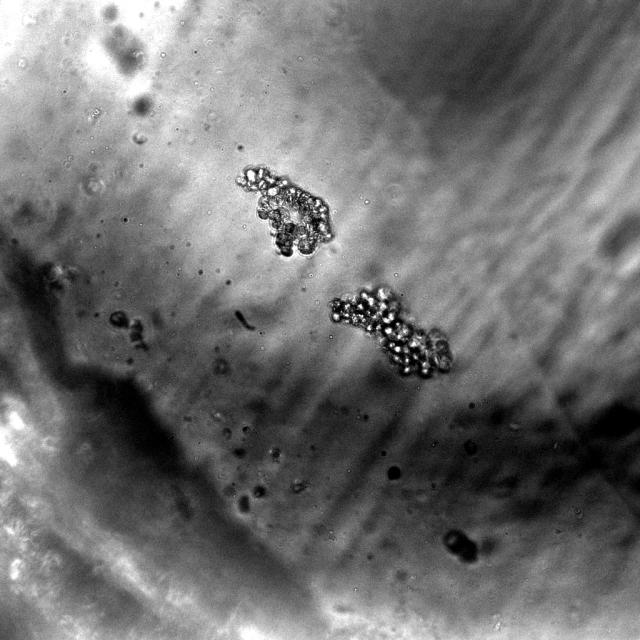organoid: (331, 287, 452, 378), (235, 165, 336, 258), (109, 311, 146, 348), (443, 530, 477, 562), (388, 466, 401, 480)
